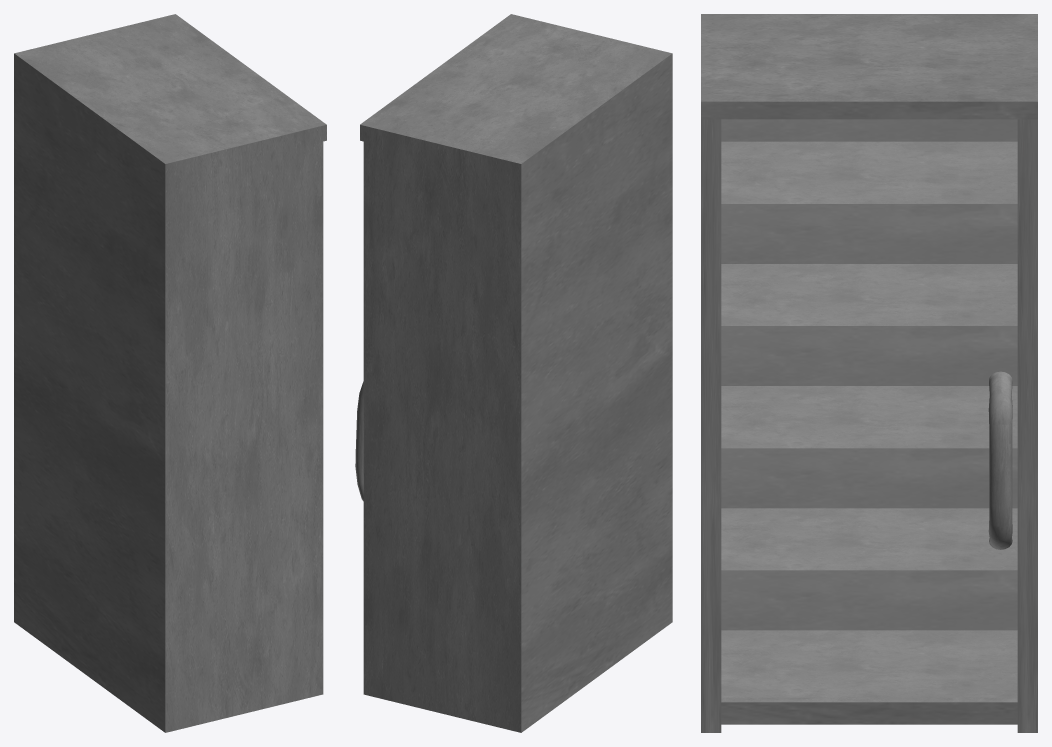
The model's file is fridge.fbx.
3 views of the same model, side by side, from view 1: azimuth 30°, elevation 25°; view 2: azimuth 150°, elevation 25°; view 3: azimuth 270°, elevation 25° (orthographic). The views are drawn at different scales.
Parts seen in each view (by area): view 1: freezer; view 2: freezer; view 3: freezer.
Boxes of the visible parts, x1=… form: freezer: x1=14, y1=14, x2=326, y2=732; freezer: x1=355, y1=14, x2=672, y2=732; freezer: x1=701, y1=14, x2=1037, y2=732.
Size of the model in its own units: 1.58 by 4.75 by 2.29.
2 materials, 1 textured.
